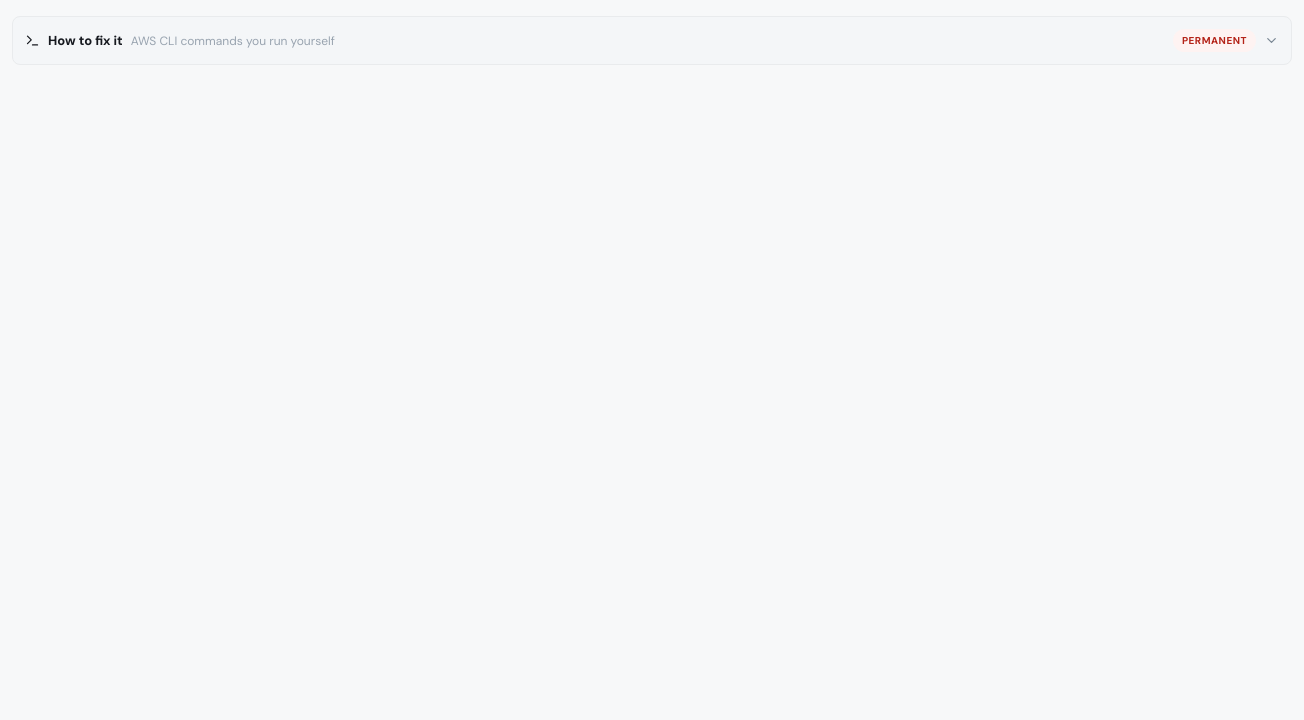
Scenario: FixCommands › copies a single command to the clipboard
Click the button "How to fix it AWS CLI commands you run yourself Permanent": click(85, 40) [13, 17, 1291, 64]
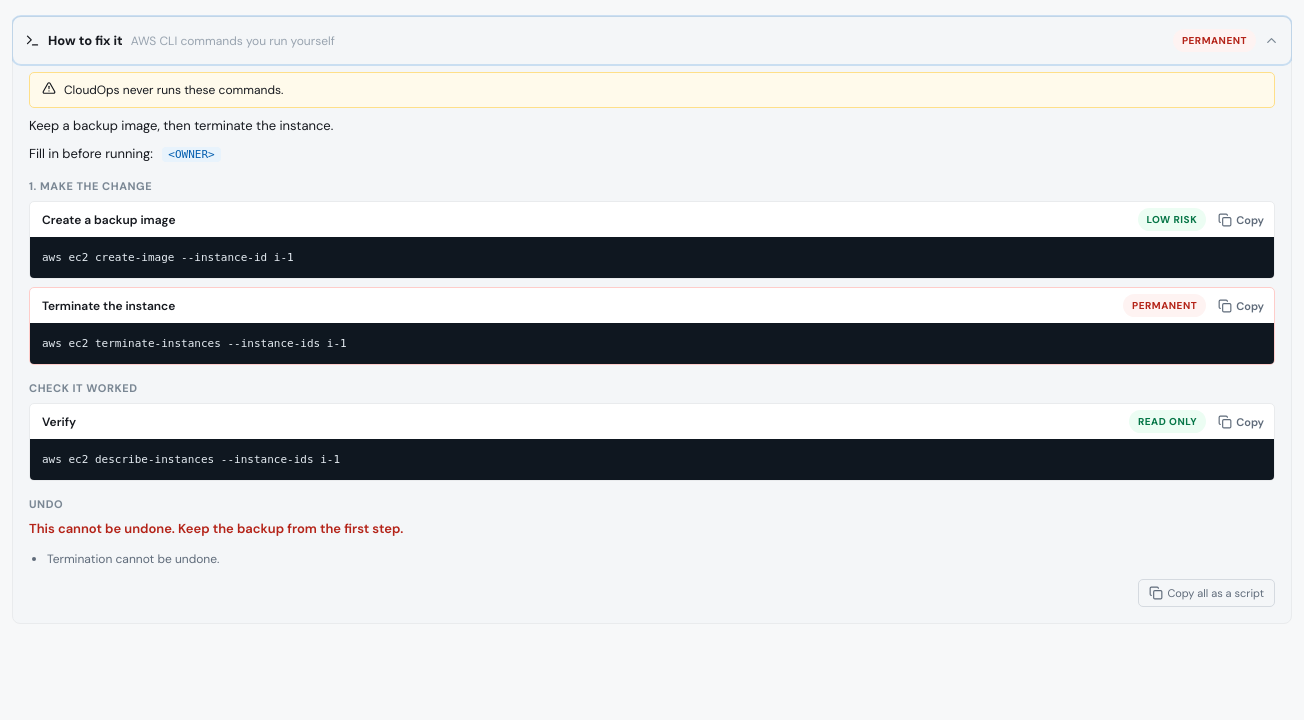
Click the button with aria-label "Copy command": click(1241, 220) [1214, 208, 1268, 230]
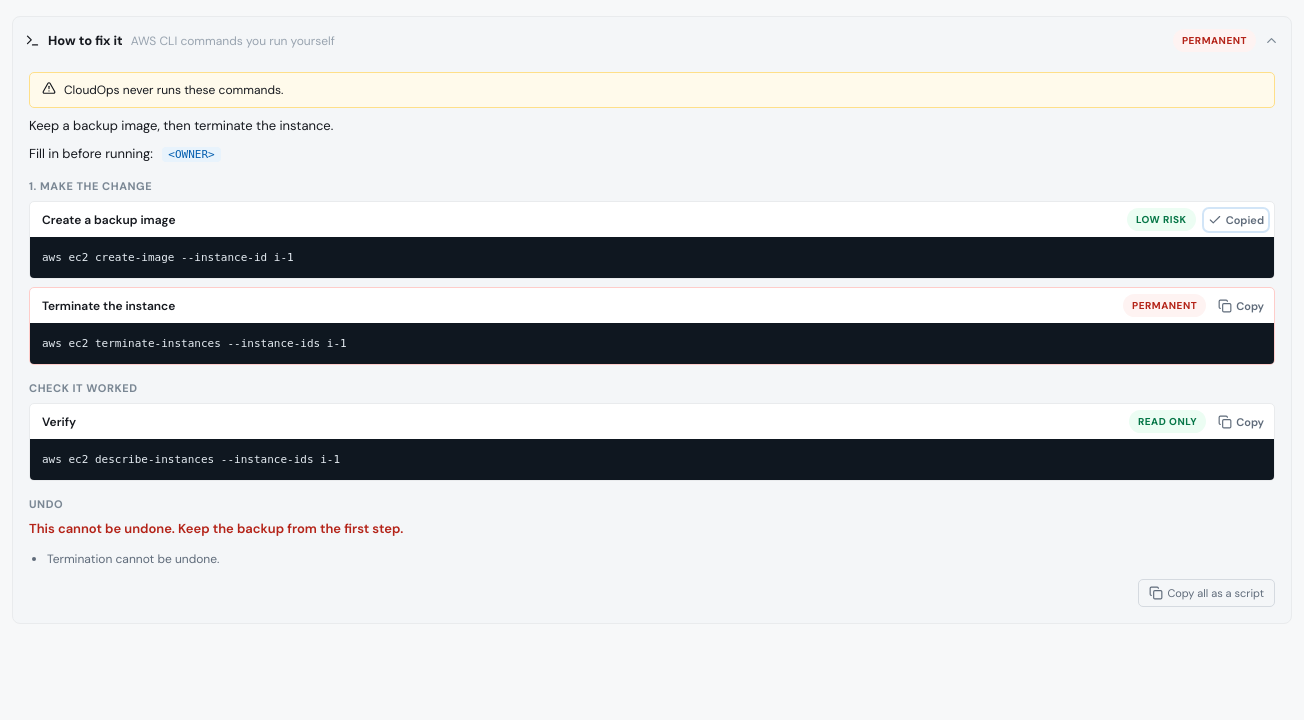
Expected: the text "Copied" is shown, [1226, 212, 1264, 226]
